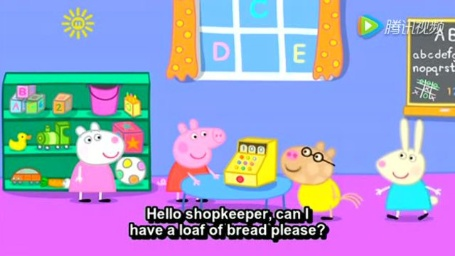Peppa: (161, 117, 224, 203)
